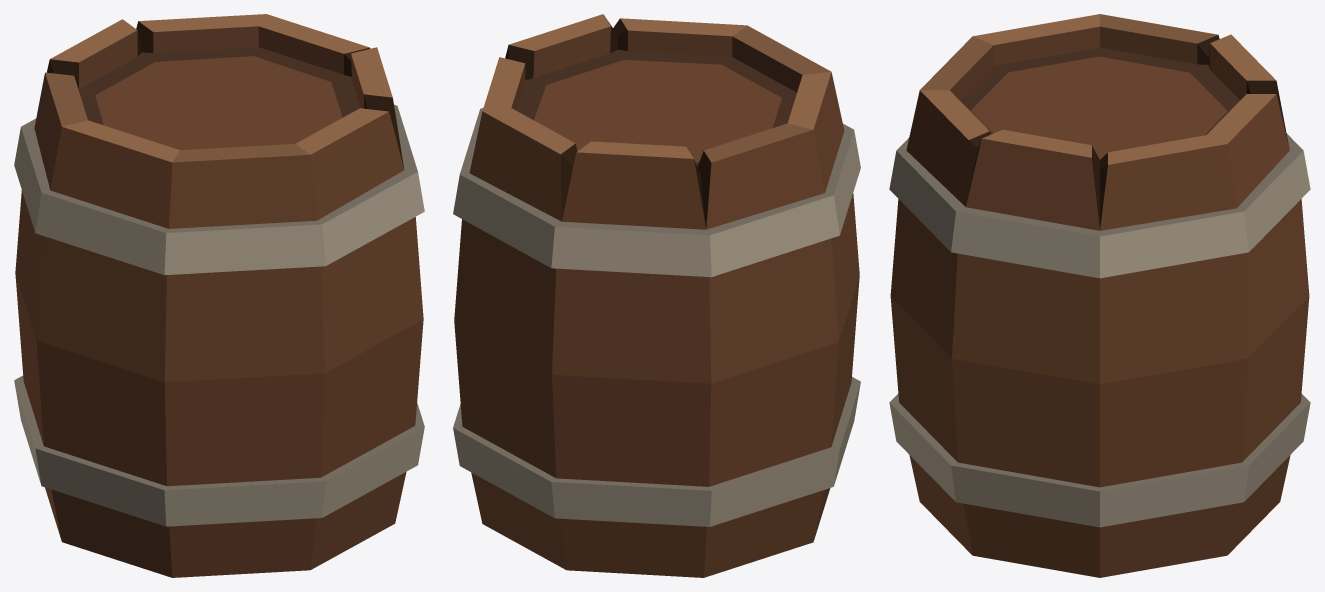
Rendered from barrel.fbx.
3 views of the same model, side by side, from view 1: azimuth 30°, elevation 25°; view 2: azimuth 150°, elevation 25°; view 3: azimuth 270°, elevation 25° (orthographic).
Visible parts, largest first — view 1: barrel; view 2: barrel; view 3: barrel.
Boxes of the visible parts, x1,y1,x2,y2 form: barrel: (14,14,424,577); barrel: (453,14,860,577); barrel: (889,14,1310,577).
Size of the model in its own units: 92.75 by 102 by 92.75.
